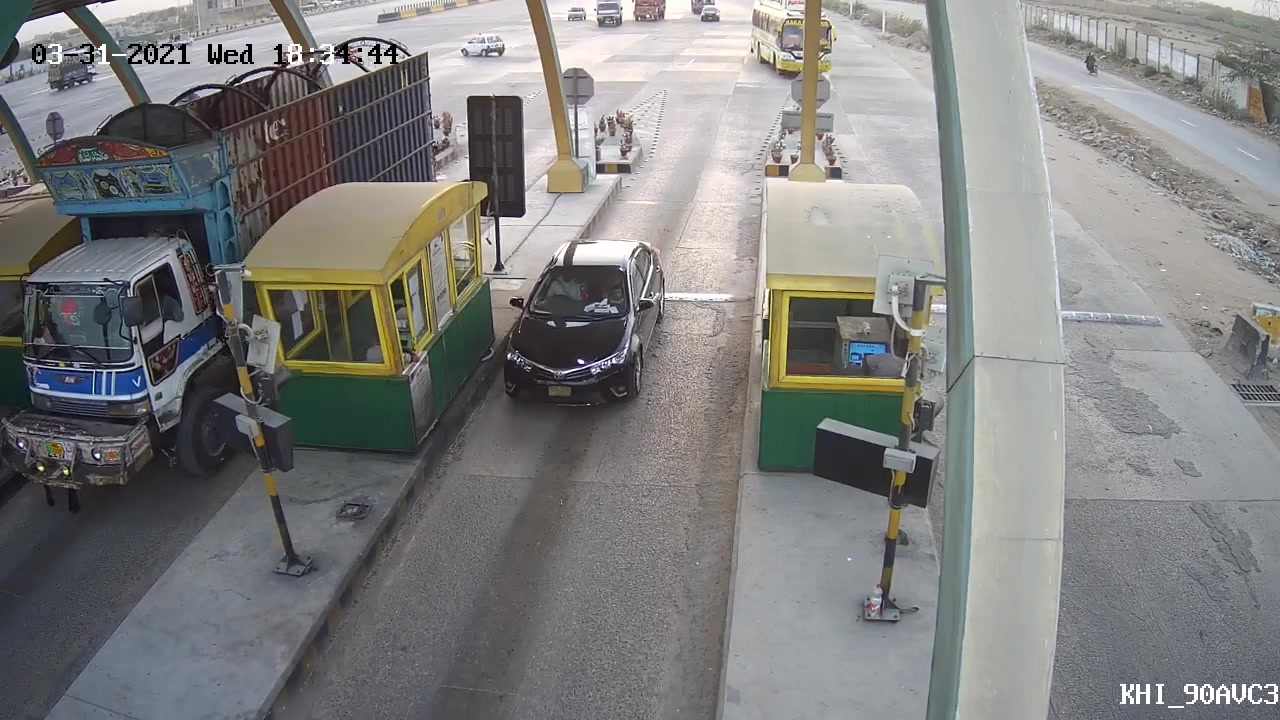F1: (498, 230, 673, 410)
